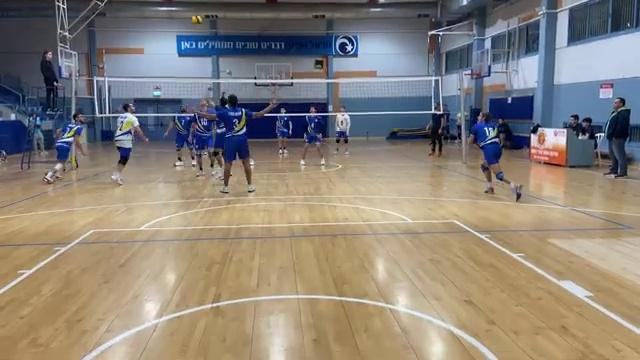ball: (191, 16, 205, 27)
